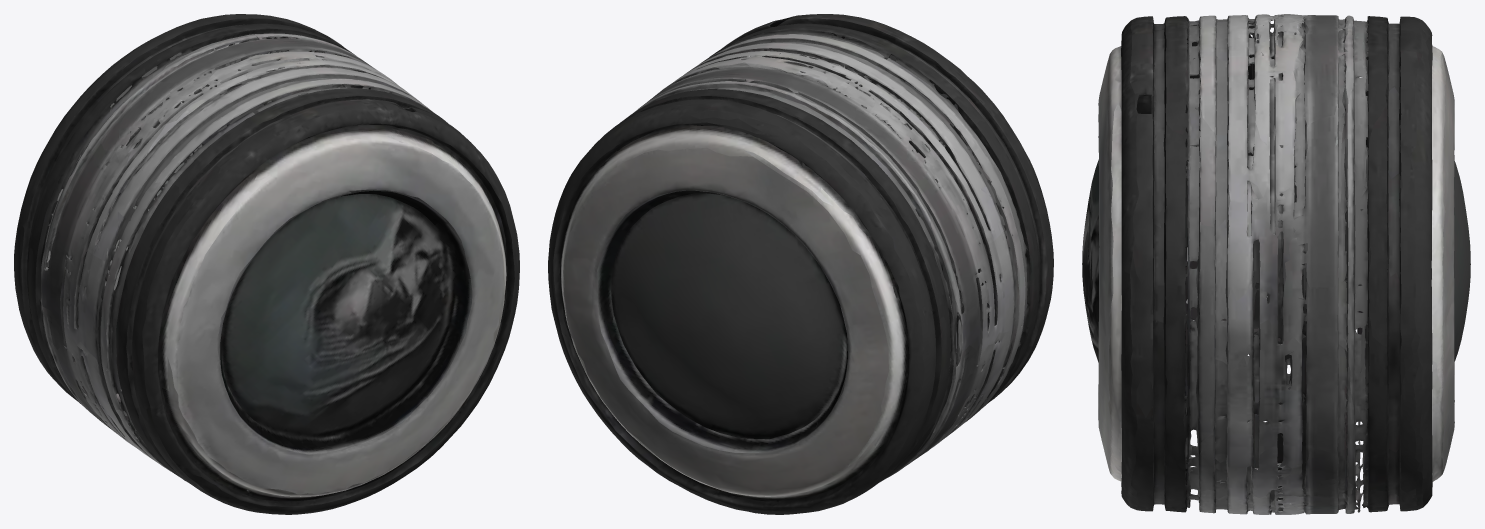
3 renders of one model, left to right at view 1: azimuth 30°, elevation 25°; view 2: azimuth 150°, elevation 25°; view 3: azimuth 270°, elevation 25°, orthographic. The views are drawn at different scales.
Parts seen in each view (by area): view 1: geometry_0; view 2: geometry_0; view 3: geometry_0.
Boxes of the visible parts, box(x1,y1,x2,y2) form: geometry_0: box(14, 14, 519, 514); geometry_0: box(548, 14, 1053, 514); geometry_0: box(1082, 14, 1470, 514).
Bounding box in the file's own units: 0.077 × 0.0769 × 0.0599.
1 material, 1 textured.
